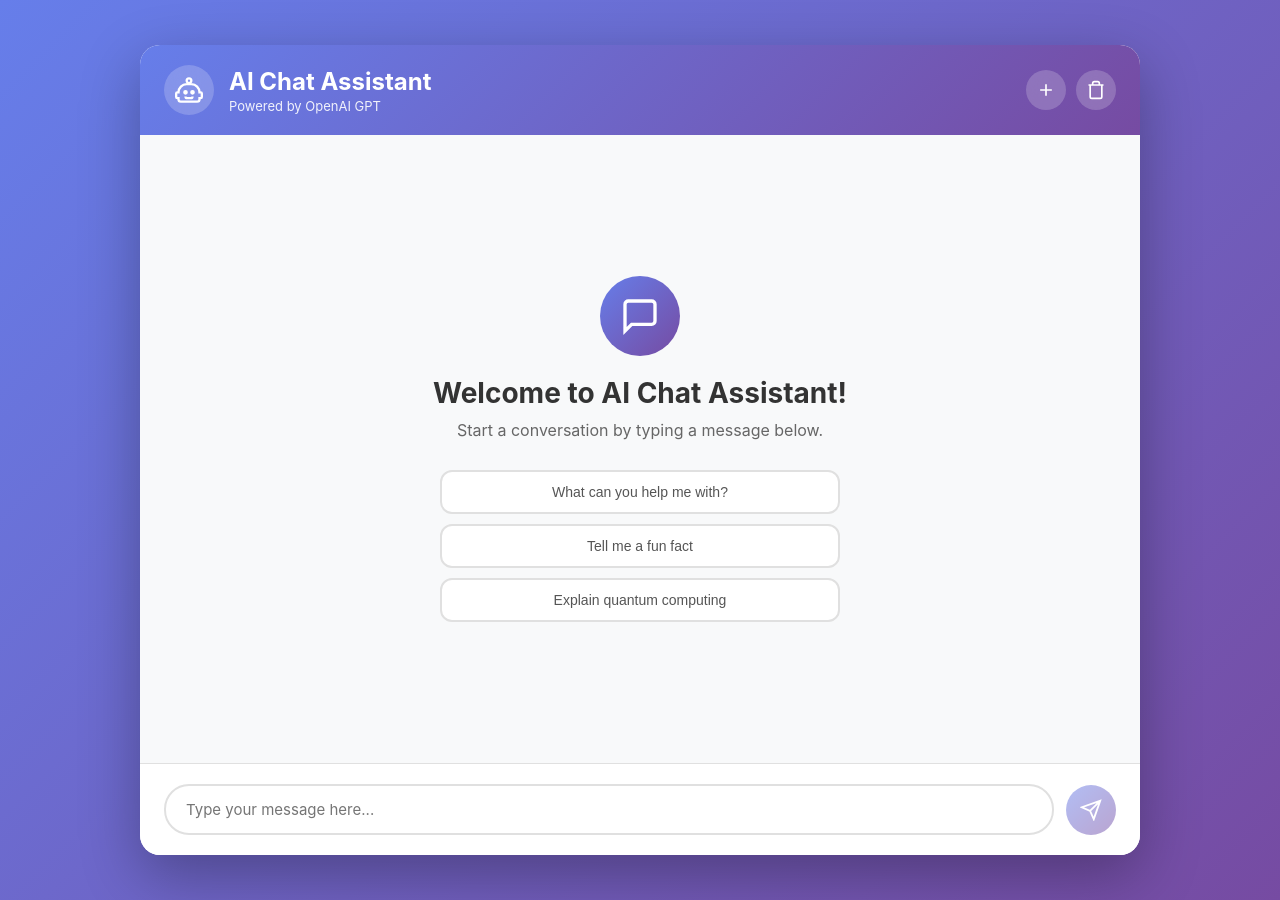
Scenario: App Component › fills input with suggestion when suggestion is clicked
Click the button "What can you help me with?": click(640, 492) x1=440 y1=470 x2=840 y2=514
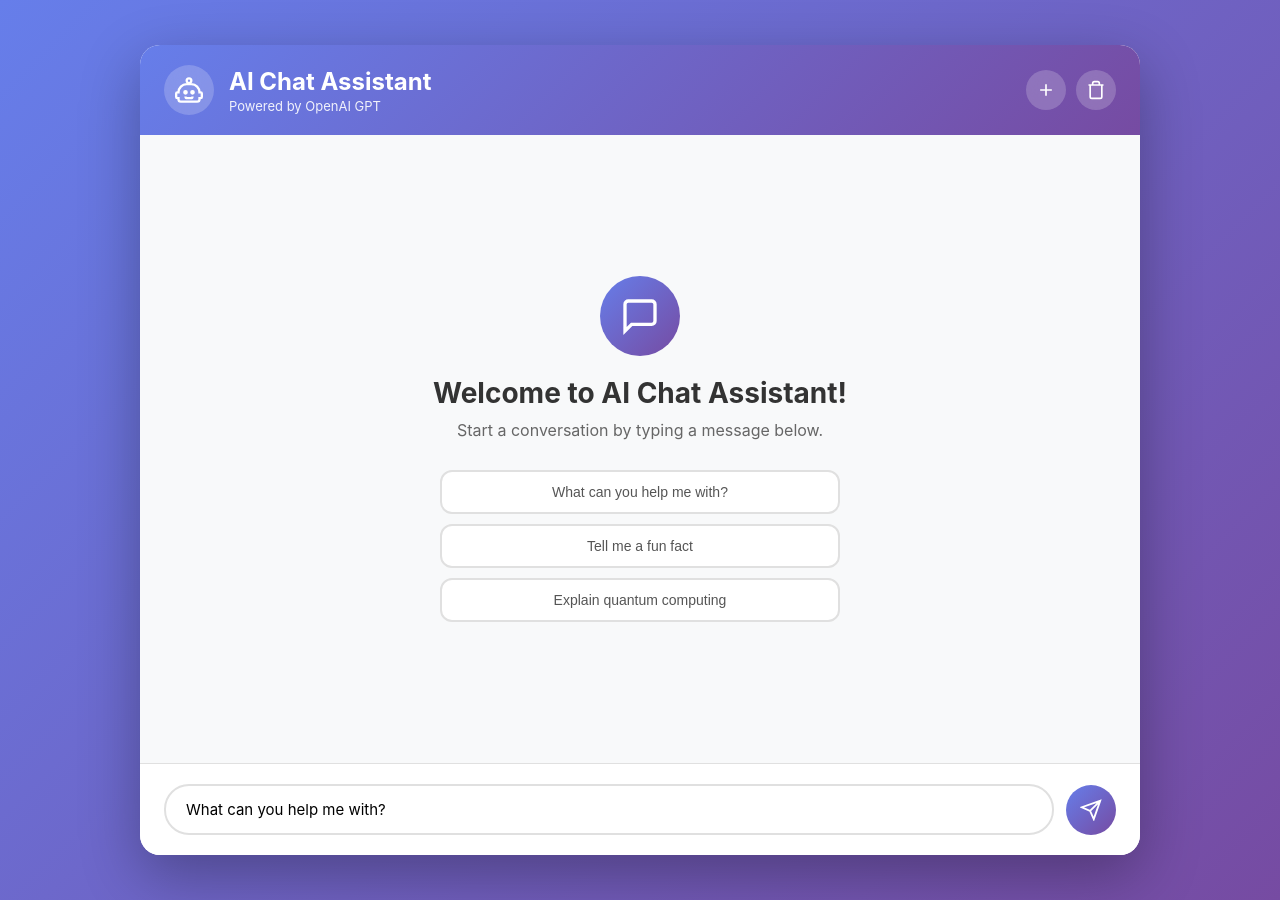
Expected: the field with placeholder "Type your message here..." holds "What can you help me with?", x1=164 y1=784 x2=1054 y2=835
